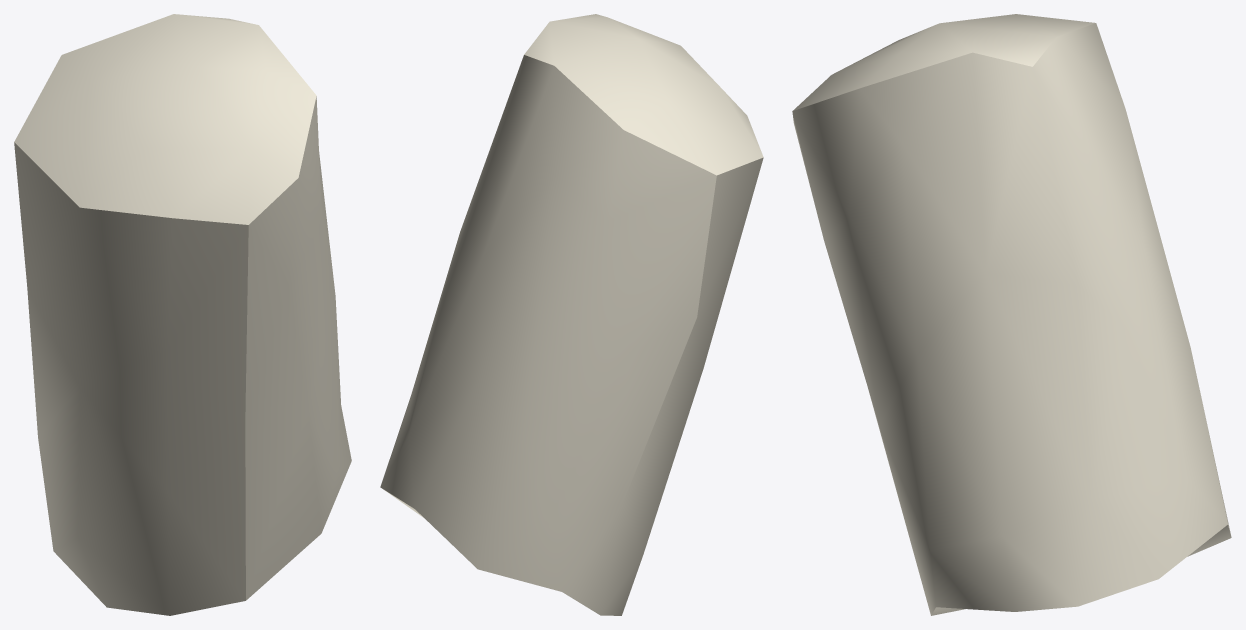
Rendered from fma60889_mm1040m.glb.
3 views of the same model, side by side, from view 1: azimuth 30°, elevation 25°; view 2: azimuth 150°, elevation 25°; view 3: azimuth 270°, elevation 25° (orthographic). The views are drawn at different scales.
Visible parts, largest first — view 1: FMA60889_MM1040M; view 2: FMA60889_MM1040M; view 3: FMA60889_MM1040M.
Boxes of the visible parts, x1,y1,x2,y2 form: FMA60889_MM1040M: [14, 14, 351, 615]; FMA60889_MM1040M: [380, 14, 763, 615]; FMA60889_MM1040M: [792, 14, 1231, 615].
Size of the model in its own units: 0.000966 by 0.00163 by 0.00106.
